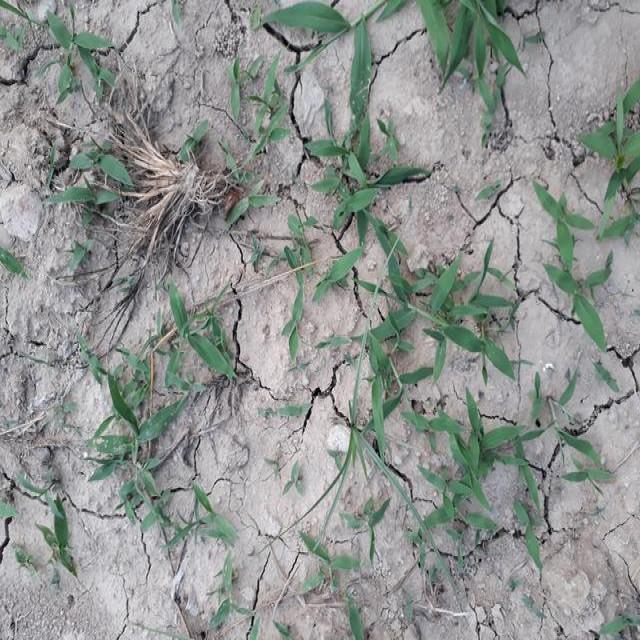weed: (405, 400, 576, 560), (368, 243, 523, 374), (538, 187, 614, 353), (264, 4, 386, 104), (402, 0, 523, 85), (100, 388, 173, 520), (312, 121, 388, 242), (162, 291, 230, 406), (62, 143, 124, 217), (46, 20, 107, 90)
